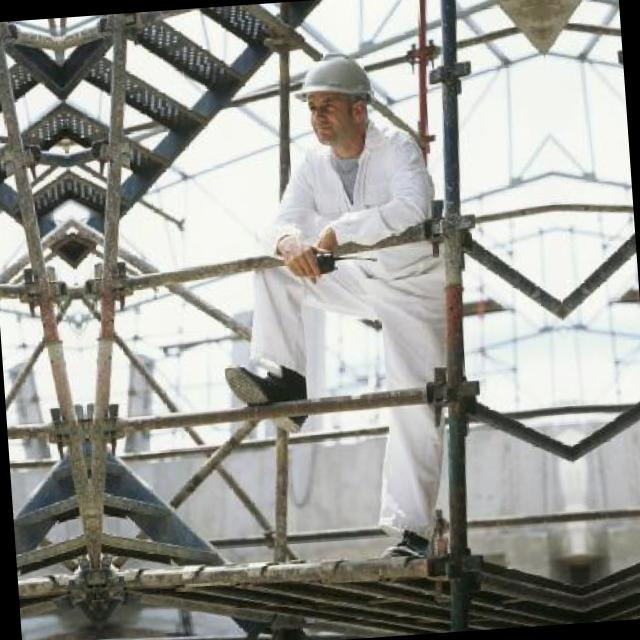helmet: (289, 41, 382, 159)
